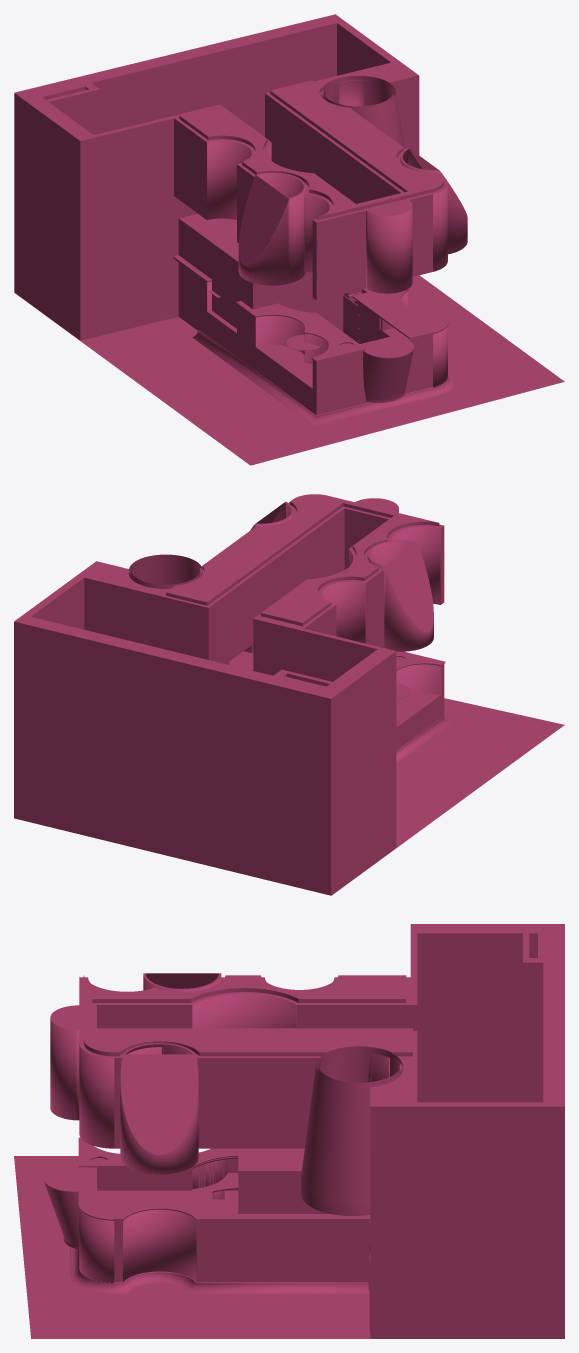
Rendered from asset.glb.
3 renders of one model, top to bottom at view 1: azimuth 30°, elevation 25°; view 2: azimuth 150°, elevation 25°; view 3: azimuth 270°, elevation 25°, orthographic. The views are drawn at different scales.
Visible parts, largest first — view 1: the final model, Cube; view 2: the final model; view 3: the final model, Cube.
Part boxes in pixels (x1,y1,x2,y2): the final model: (14, 14, 564, 465); Cube: (178, 214, 344, 331); the final model: (14, 494, 564, 895); the final model: (14, 924, 564, 1338); Cube: (238, 1148, 329, 1213).
Size of the model in its own units: 4.98 by 3.55 by 6.34.
